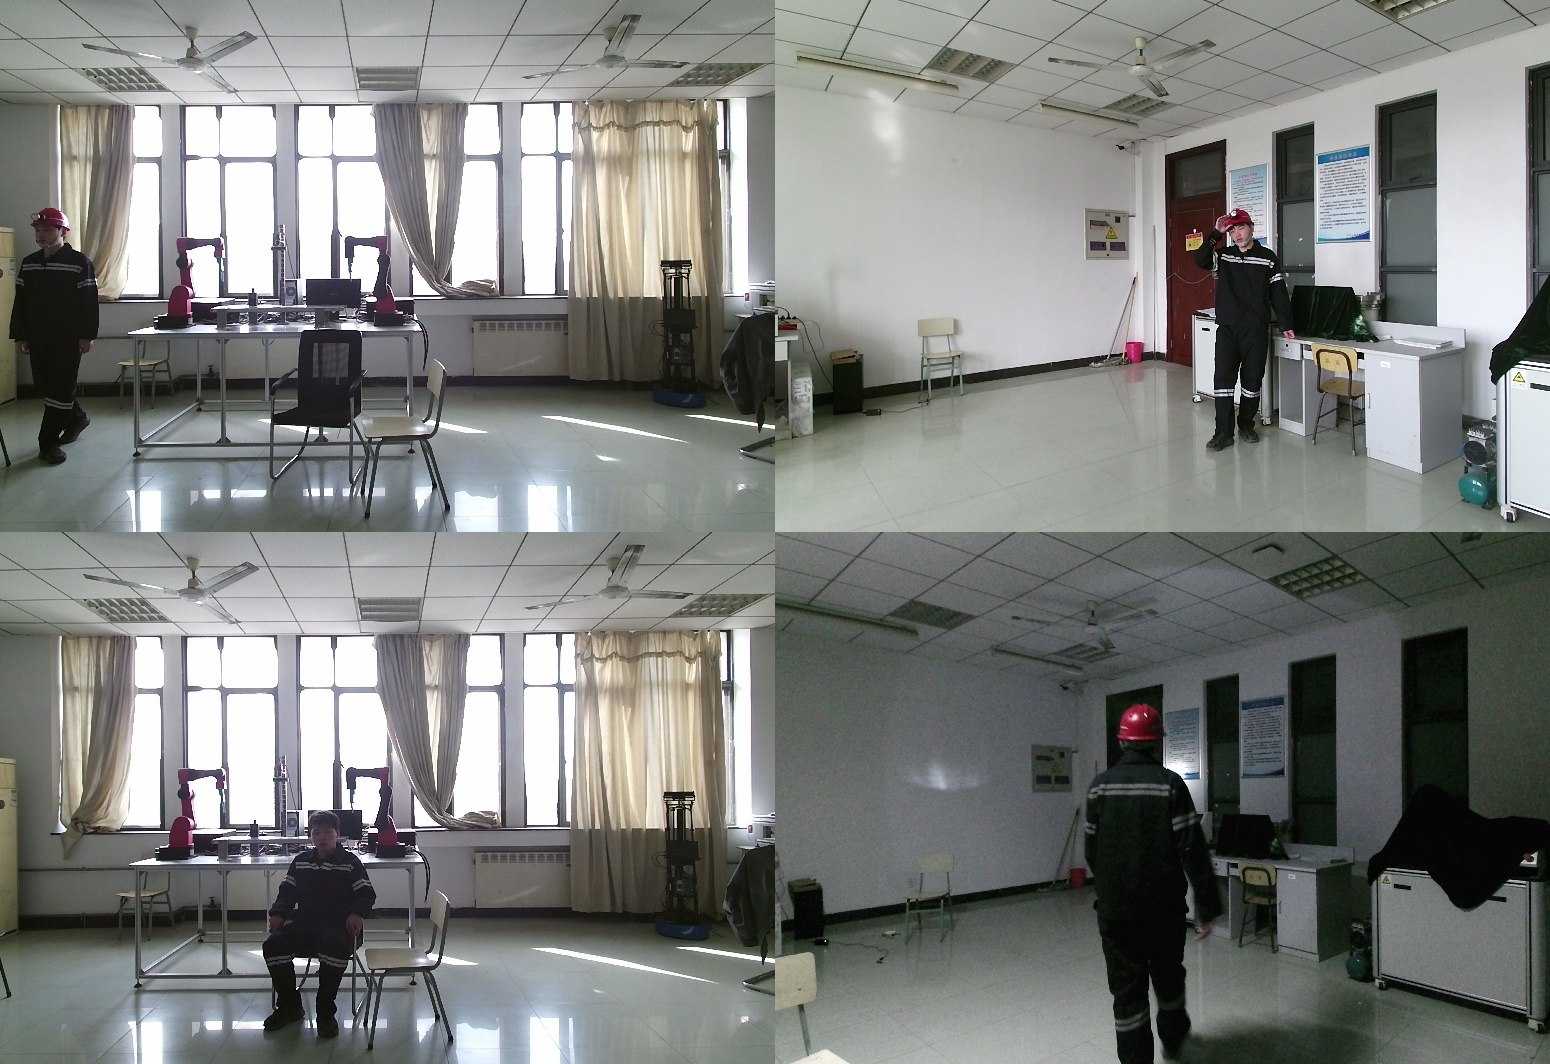person: (1071, 693, 1261, 1064), (261, 812, 383, 1030), (1198, 209, 1300, 453), (9, 209, 105, 465)
